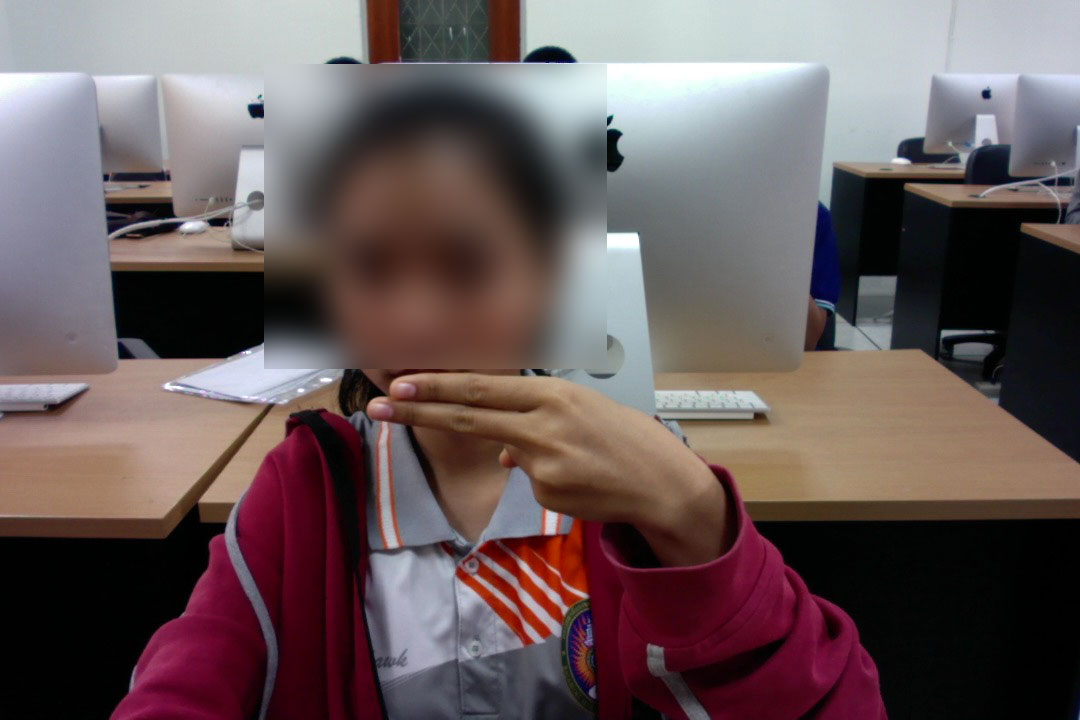hor: (353, 363, 689, 530)
